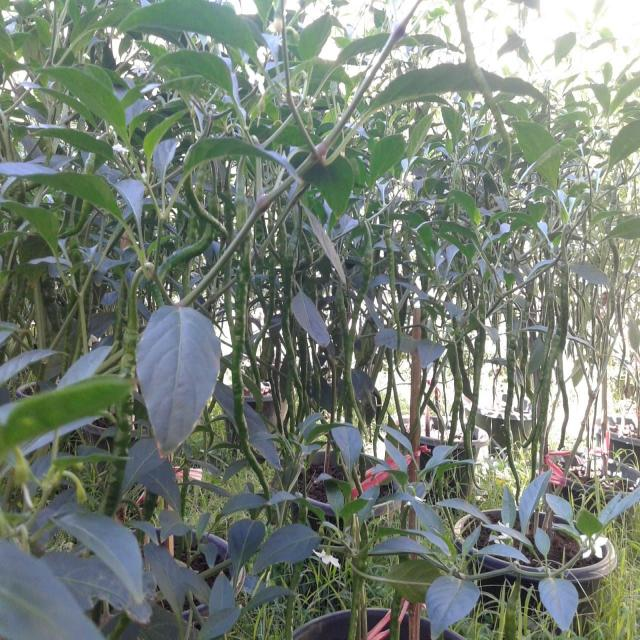sehat: (56, 492, 154, 609), (424, 569, 478, 640), (253, 520, 324, 571), (293, 292, 336, 361), (338, 408, 362, 477)
